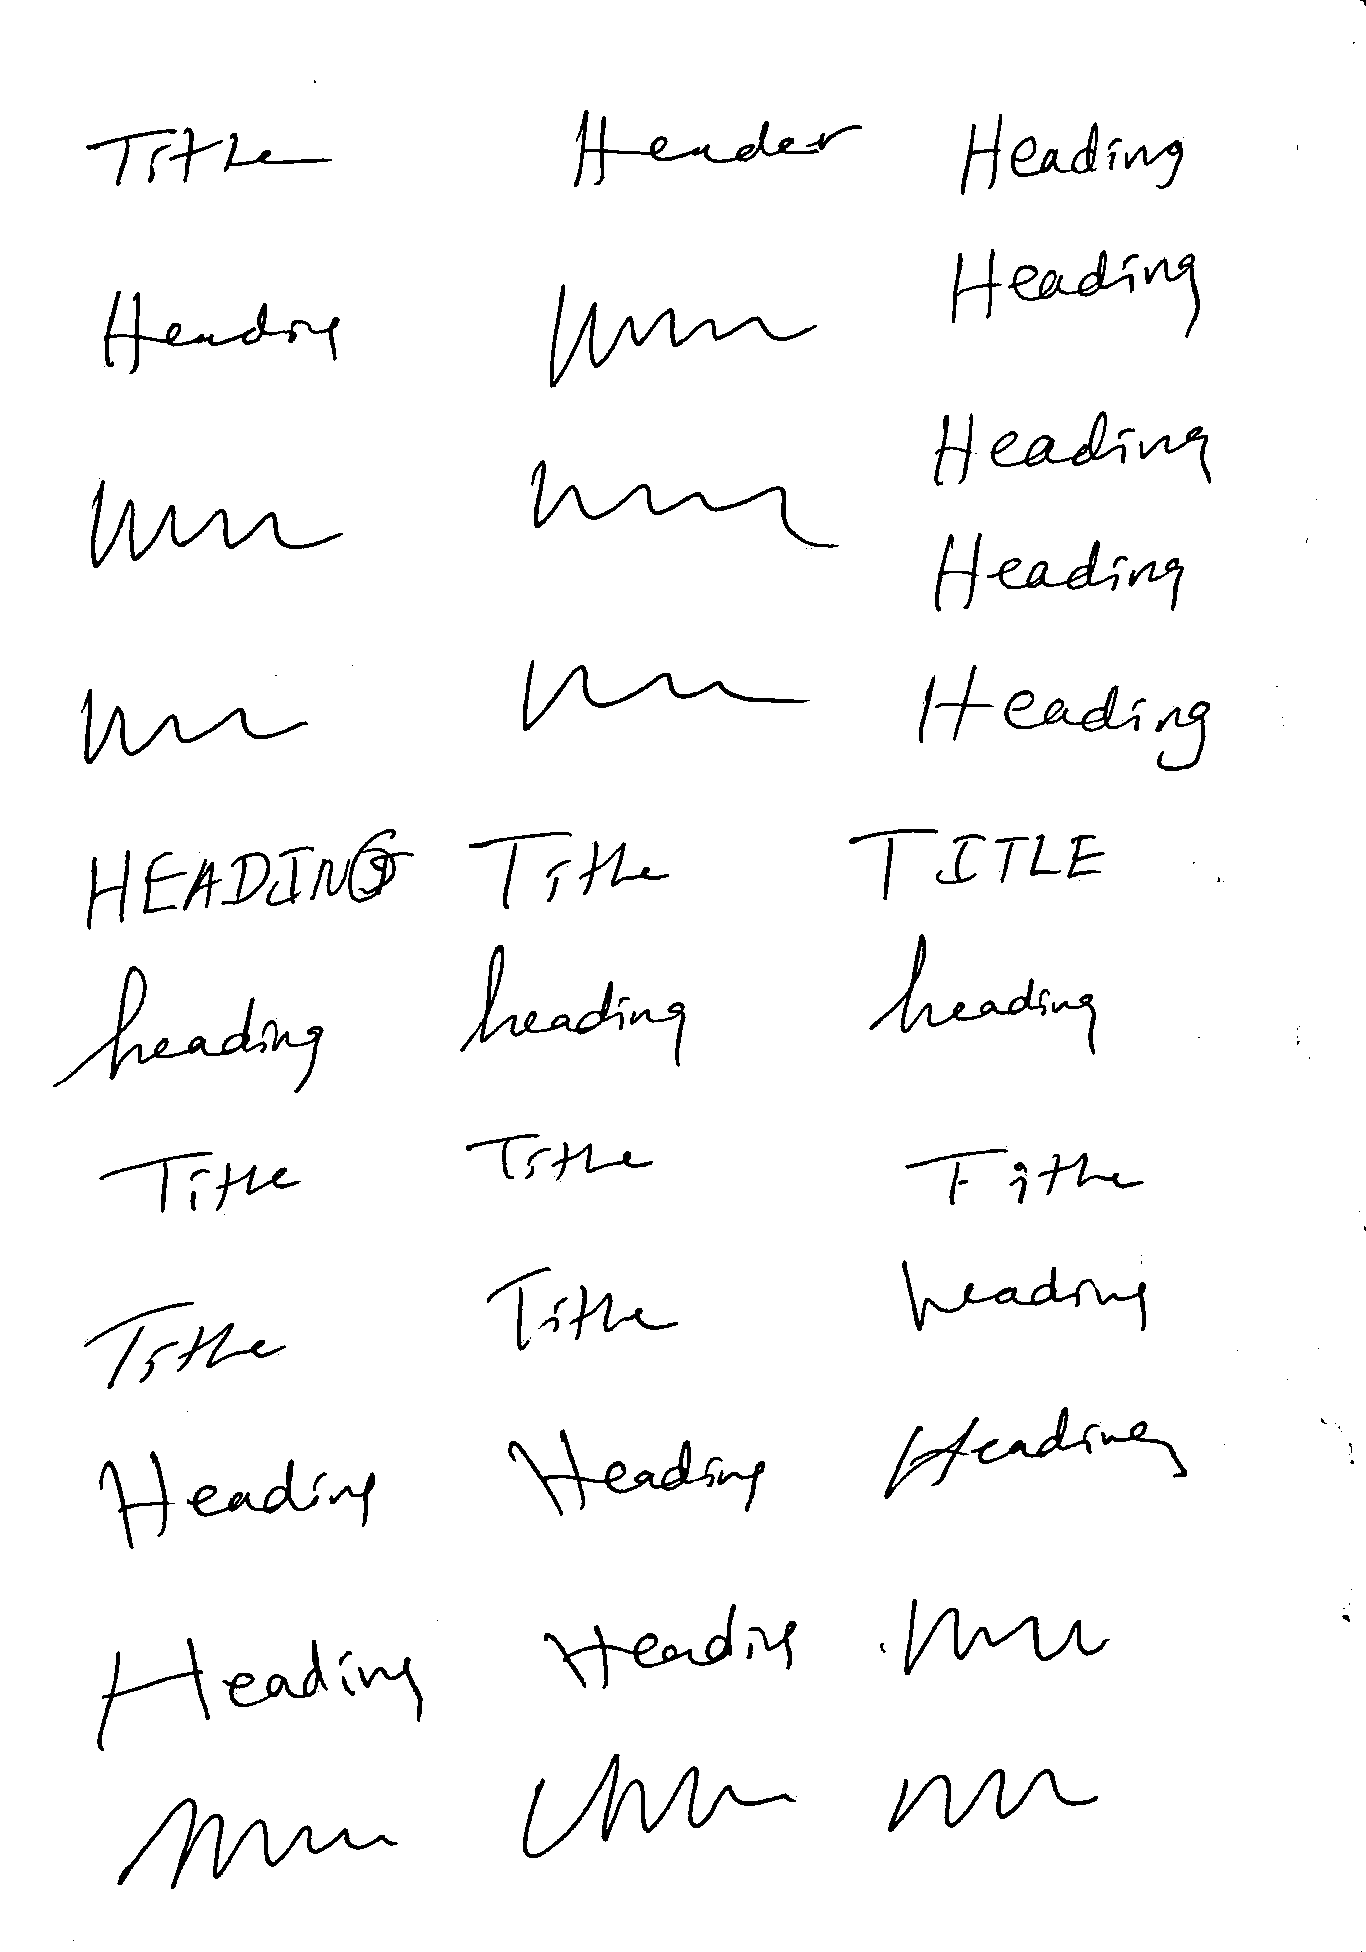Heading: (85, 1633, 426, 1758), (82, 823, 417, 932), (53, 960, 326, 1092), (516, 1747, 807, 1866), (917, 660, 1212, 773), (527, 448, 831, 550), (882, 1405, 1190, 1506), (104, 1790, 397, 1893), (541, 285, 822, 390), (96, 1448, 377, 1550), (457, 946, 687, 1064), (567, 102, 869, 191), (868, 937, 1101, 1046), (82, 481, 347, 576), (534, 1605, 804, 1695), (99, 282, 341, 383), (949, 245, 1209, 338), (501, 1425, 768, 1514), (521, 653, 811, 733), (927, 530, 1191, 616), (931, 406, 1215, 484), (957, 110, 1191, 197), (894, 1596, 1118, 1686), (877, 1755, 1106, 1842), (845, 825, 1106, 900), (82, 1295, 286, 1390), (77, 120, 328, 197), (897, 1255, 1151, 1328), (82, 687, 311, 767), (899, 1144, 1152, 1215), (466, 828, 664, 911), (482, 1267, 676, 1350), (96, 1145, 297, 1215), (461, 1127, 659, 1185)
